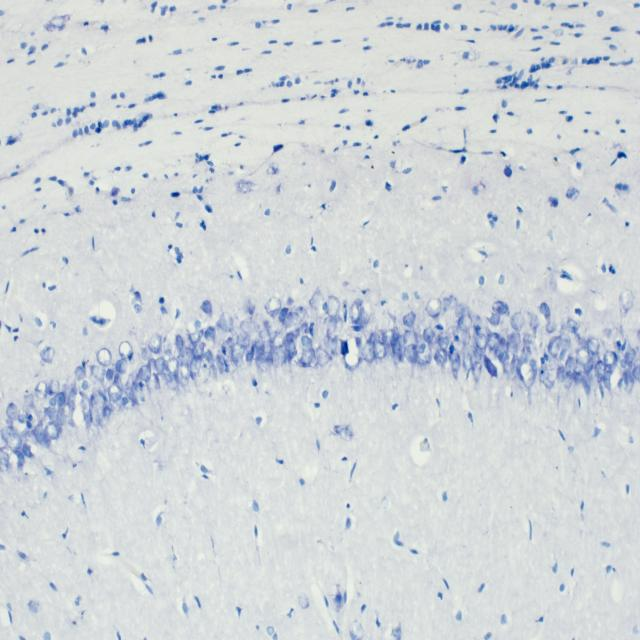neuron: (517, 351, 538, 388), (413, 332, 432, 367), (327, 316, 343, 341), (6, 450, 24, 472), (5, 417, 27, 435), (90, 400, 104, 428), (362, 339, 376, 364), (342, 352, 360, 371), (548, 336, 563, 358), (622, 368, 635, 393), (326, 295, 340, 318), (620, 288, 634, 311), (178, 347, 194, 367), (257, 351, 273, 371), (425, 297, 441, 317), (403, 343, 418, 364), (493, 338, 506, 362), (22, 439, 38, 458), (96, 348, 112, 367), (265, 297, 281, 316), (219, 312, 234, 332), (309, 290, 324, 310), (575, 346, 590, 366), (603, 349, 618, 369), (231, 344, 243, 368), (90, 363, 105, 382), (271, 348, 286, 367), (433, 347, 448, 366), (119, 341, 133, 361), (148, 334, 162, 354), (187, 329, 204, 345), (7, 433, 22, 451), (298, 350, 313, 368), (485, 310, 500, 328), (45, 422, 59, 441), (315, 348, 329, 367), (510, 312, 524, 331), (261, 338, 273, 360), (349, 300, 360, 324), (509, 355, 520, 379), (358, 306, 371, 326), (372, 341, 387, 358), (455, 302, 470, 319), (215, 352, 226, 375), (108, 384, 122, 402), (294, 306, 308, 324), (486, 332, 500, 350), (166, 357, 179, 376), (586, 336, 599, 355), (190, 355, 202, 375), (240, 317, 255, 333), (270, 332, 285, 348), (402, 312, 417, 328), (437, 331, 449, 351), (560, 332, 572, 352), (192, 341, 206, 358), (565, 356, 578, 374), (67, 387, 77, 410), (472, 360, 482, 383), (54, 408, 66, 427), (40, 346, 54, 362), (458, 314, 472, 330), (35, 381, 48, 398), (204, 326, 217, 343), (237, 331, 250, 348), (34, 422, 45, 442), (390, 326, 400, 348), (6, 402, 18, 420), (204, 349, 216, 367), (538, 302, 550, 320), (594, 360, 606, 378), (0, 426, 14, 441), (80, 394, 90, 415), (154, 356, 165, 375), (138, 365, 151, 381), (267, 324, 280, 340), (382, 329, 395, 345), (288, 338, 297, 361), (48, 378, 60, 395), (492, 302, 509, 314), (148, 358, 159, 376), (278, 306, 289, 324), (507, 331, 521, 345), (44, 406, 57, 421), (201, 300, 213, 316), (476, 333, 488, 349), (624, 348, 636, 364), (394, 346, 405, 363), (115, 359, 128, 373), (174, 374, 188, 387), (54, 391, 66, 406), (180, 362, 190, 380), (243, 300, 255, 315), (284, 312, 294, 330), (300, 334, 312, 349), (423, 327, 435, 342), (462, 354, 472, 372), (567, 318, 579, 333), (564, 370, 573, 390), (572, 370, 584, 385), (125, 387, 136, 403), (0, 448, 9, 467), (451, 352, 460, 371), (584, 357, 594, 374), (132, 378, 144, 392), (23, 394, 34, 409), (75, 365, 86, 380), (369, 330, 380, 345), (529, 314, 538, 332), (162, 338, 172, 354), (324, 334, 334, 350), (330, 334, 338, 354), (509, 340, 519, 356), (443, 296, 452, 313), (557, 365, 566, 382), (62, 402, 71, 418), (109, 400, 121, 412), (209, 364, 218, 380), (546, 322, 558, 334), (102, 405, 112, 419), (522, 333, 532, 346), (175, 336, 183, 352), (251, 344, 259, 360), (632, 364, 640, 380), (18, 408, 27, 422), (474, 346, 483, 360), (38, 438, 50, 448), (163, 372, 173, 384), (258, 329, 270, 339), (402, 329, 410, 344), (222, 343, 230, 357), (449, 295, 457, 309), (83, 412, 93, 423), (225, 337, 235, 348), (141, 348, 150, 360), (106, 368, 114, 381), (451, 367, 459, 380), (245, 350, 252, 363), (559, 348, 566, 361), (418, 343, 427, 353), (401, 292, 409, 302), (114, 373, 121, 384), (121, 397, 129, 406), (49, 397, 56, 407), (620, 358, 627, 368), (82, 380, 88, 390)
